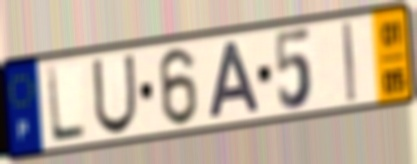5: (273, 23, 319, 114)
6: (157, 44, 200, 129)
A: (205, 38, 264, 122)
I: (340, 19, 358, 105)
L: (44, 63, 88, 145)
U: (90, 52, 139, 138)
